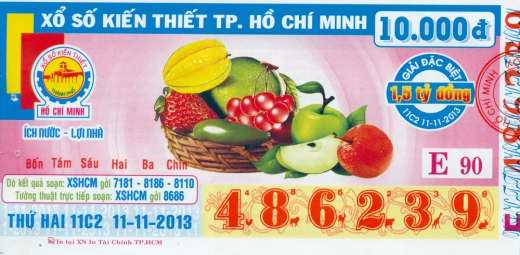serial_zone: (202, 185, 499, 237)
